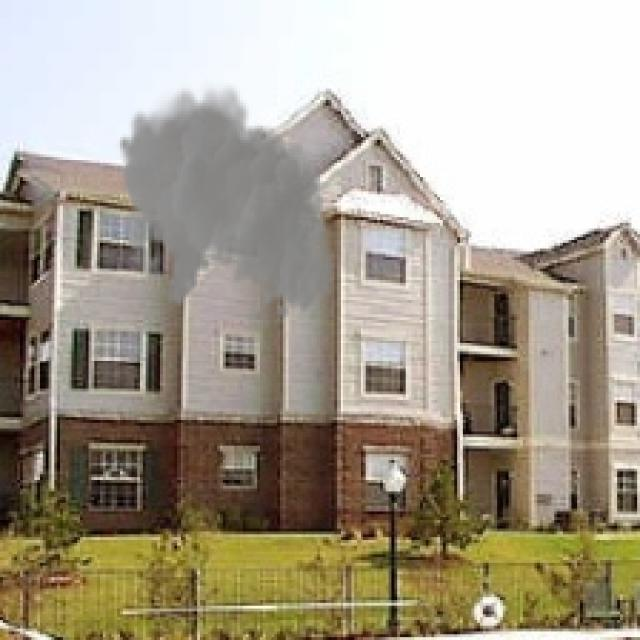smoke: (117, 77, 334, 320)
